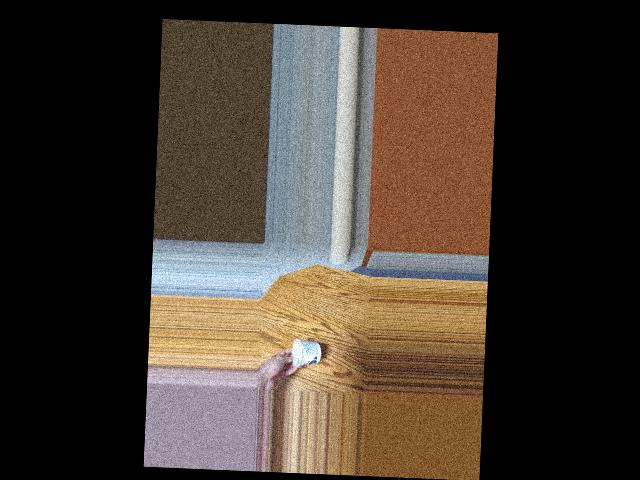cotage: (290, 335, 317, 368)
